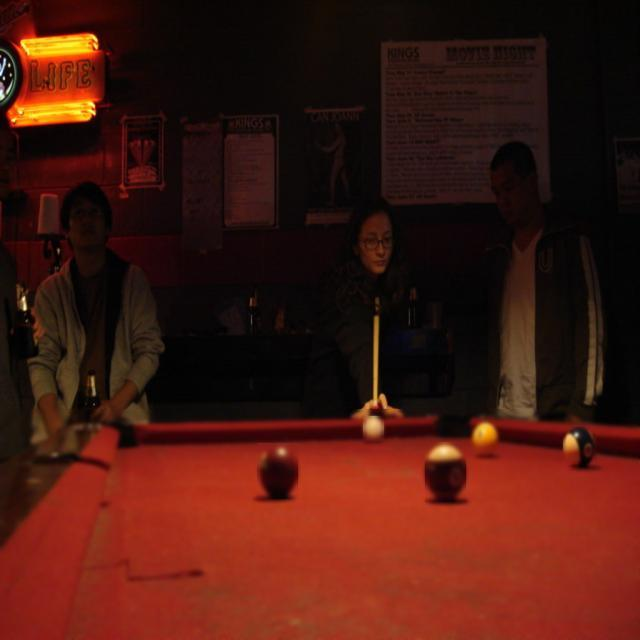Ball: (425, 442, 466, 502), (257, 443, 298, 499), (564, 428, 596, 468), (363, 416, 384, 443)
Billiard table: (0, 409, 639, 638)
